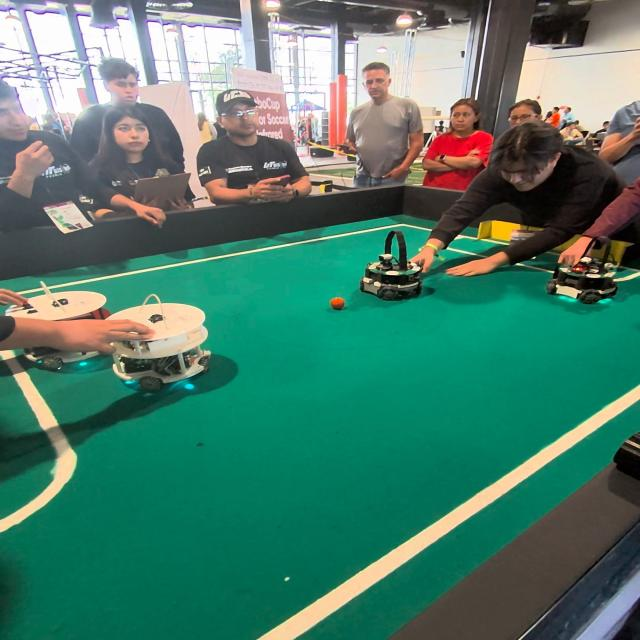Robot: (110, 288, 242, 402), (10, 279, 104, 366), (363, 220, 445, 306), (542, 231, 622, 312)
pelota: (332, 296, 346, 307)
